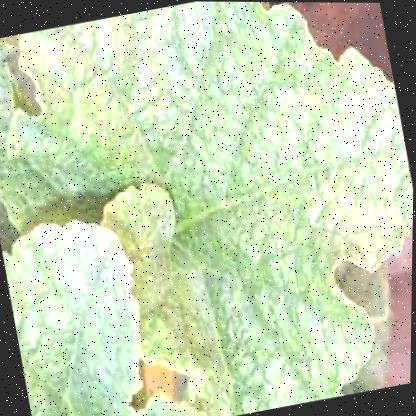CassavaMosaicDisease: (10, 0, 415, 416)
